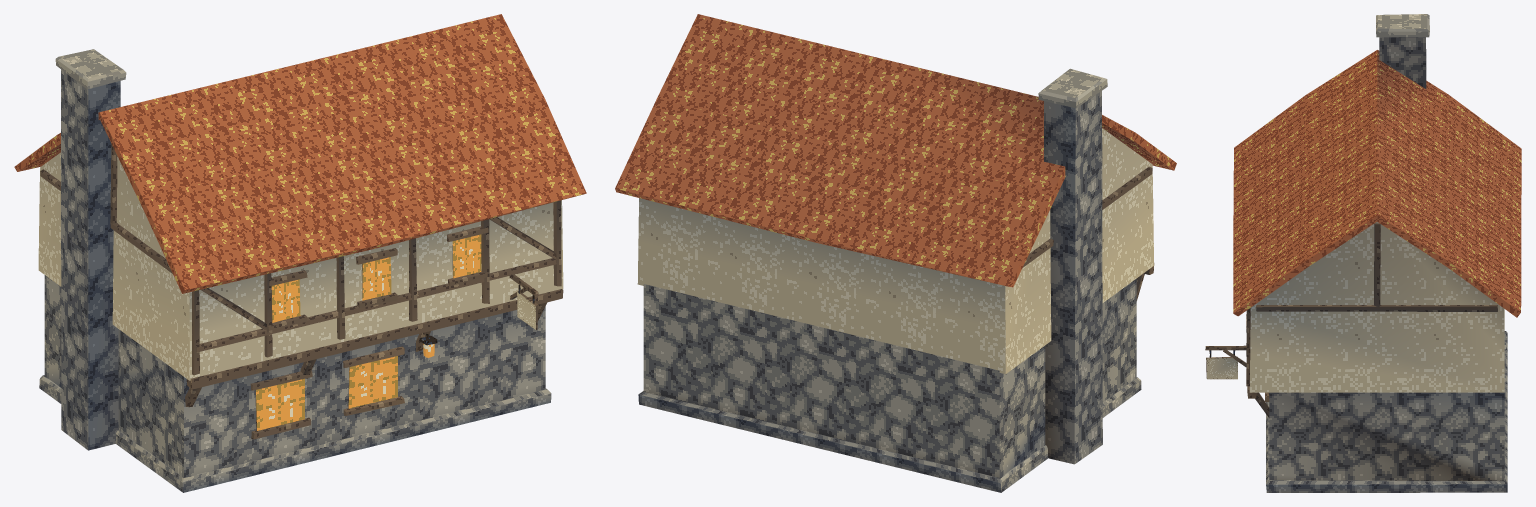
File: vlg.tavern__doorway.glb
The picture shows the model from 3 angles, left to right: view 1: azimuth 30°, elevation 25°; view 2: azimuth 150°, elevation 25°; view 3: azimuth 270°, elevation 25°; orthographic projection. The views are drawn at different scales.
Visible parts, largest first — view 1: kit_roof, kit_walls, kit_stonework, kit_frame, kit_fittings; view 2: kit_walls, kit_roof, kit_stonework, kit_frame; view 3: kit_walls, kit_roof, kit_stonework, kit_frame, kit_fittings.
Boxes of the visible parts, x1=… form: kit_roof: x1=14, y1=14, x2=586, y2=293; kit_walls: x1=38, y1=152, x2=563, y2=477; kit_stonework: x1=39, y1=49, x2=551, y2=492; kit_frame: x1=40, y1=144, x2=563, y2=407; kit_fittings: x1=250, y1=226, x2=538, y2=439; kit_walls: x1=637, y1=128, x2=1154, y2=477; kit_roof: x1=615, y1=14, x2=1176, y2=287; kit_stonework: x1=638, y1=68, x2=1141, y2=492; kit_frame: x1=1022, y1=166, x2=1154, y2=300; kit_walls: x1=1249, y1=222, x2=1504, y2=481; kit_roof: x1=1233, y1=50, x2=1521, y2=317; kit_stonework: x1=1266, y1=14, x2=1507, y2=492; kit_frame: x1=1246, y1=223, x2=1497, y2=417; kit_fittings: x1=1205, y1=314, x2=1269, y2=401.
Bounding box in the file's own units: 10.35 × 8.87 × 8.06.
9 materials, 9 textured.
